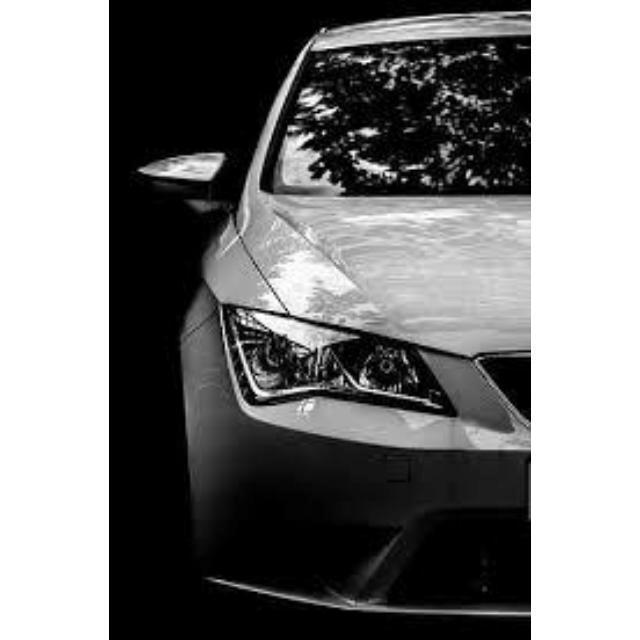Headlight-damage: (175, 299, 464, 456)
